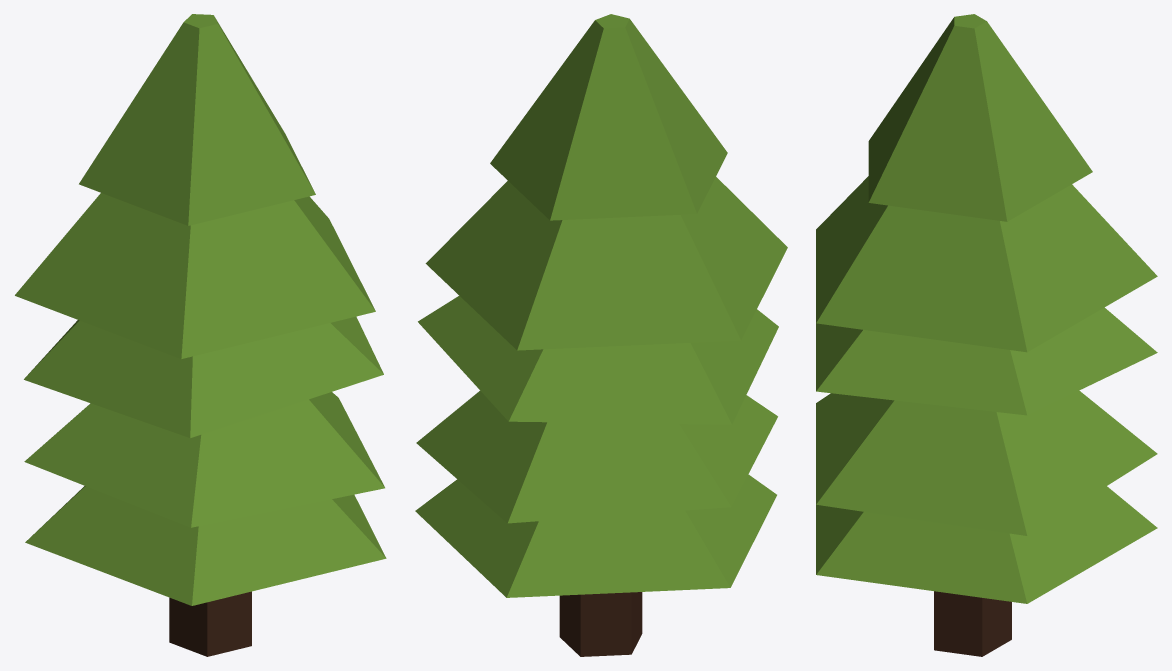
Rendered from agac2.fbx.
3 renders of one model, left to right at view 1: azimuth 30°, elevation 25°; view 2: azimuth 150°, elevation 25°; view 3: azimuth 270°, elevation 25°, orthographic.
Parts seen in each view (by area): view 1: tree1; view 2: tree1; view 3: tree1.
Part boxes in pixels (x1,y1,x2,y2): tree1: [15, 14, 386, 656]; tree1: [415, 14, 787, 656]; tree1: [816, 14, 1157, 656].
Size of the model in its own units: 0.0204 by 0.0372 by 0.0188.
